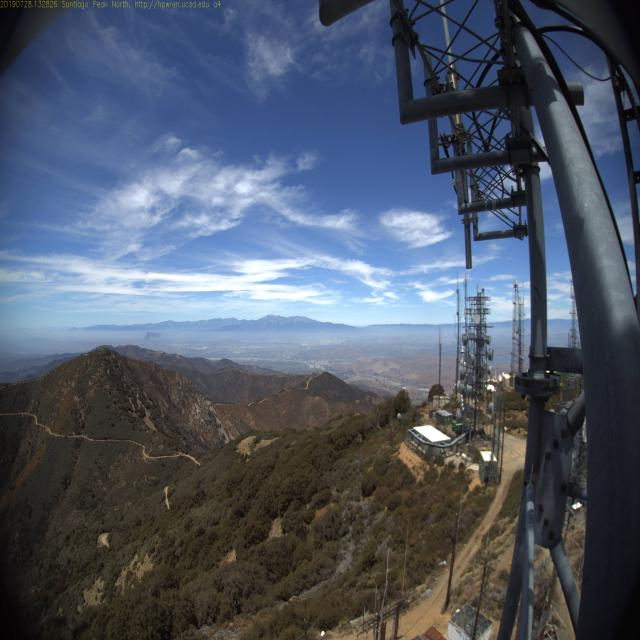smoke: (137, 323, 161, 345)
